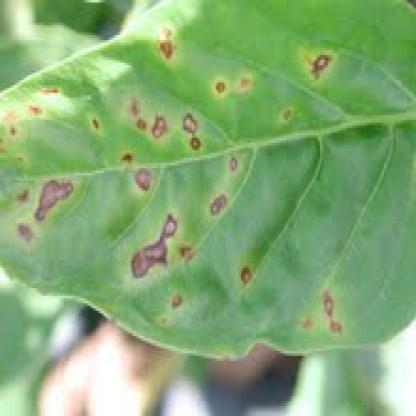Bell_pepper leaf: (2, 5, 401, 361)
